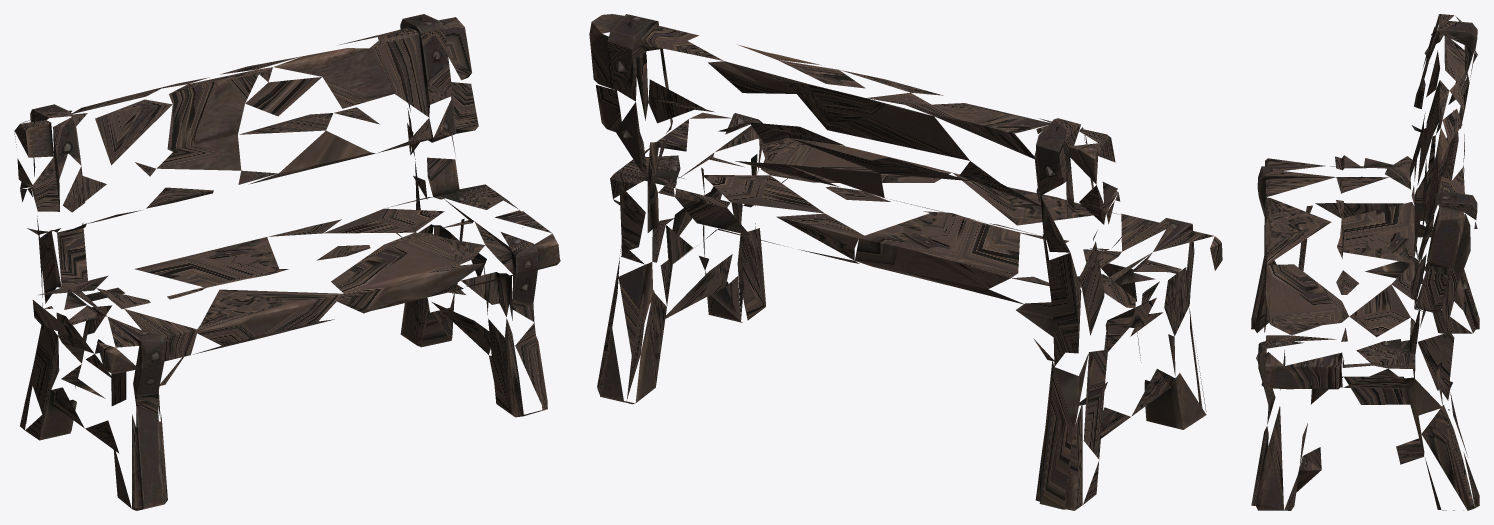
File: prp_bench_a_LOD1.glb
3 renders of one model, left to right at view 1: azimuth 30°, elevation 25°; view 2: azimuth 150°, elevation 25°; view 3: azimuth 270°, elevation 25°, orthographic. The views are drawn at different scales.
Parts seen in each view (by area): view 1: geometry_0; view 2: geometry_0; view 3: geometry_0.
Part boxes in pixels (<box>): geometry_0: <box>14,14,560,510</box>; geometry_0: <box>589,14,1222,510</box>; geometry_0: <box>1251,14,1479,510</box>.
Size of the model in its own units: 1.33 by 0.9 by 0.6071.
Materials: 1 (1 with a texture image).
